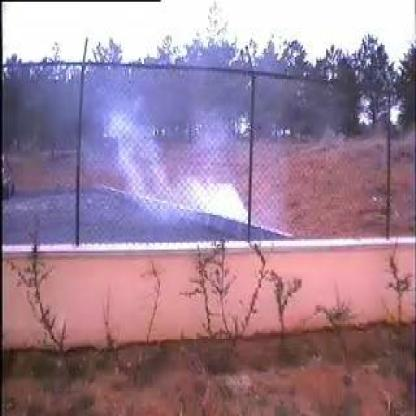-: (105, 76, 250, 212)
